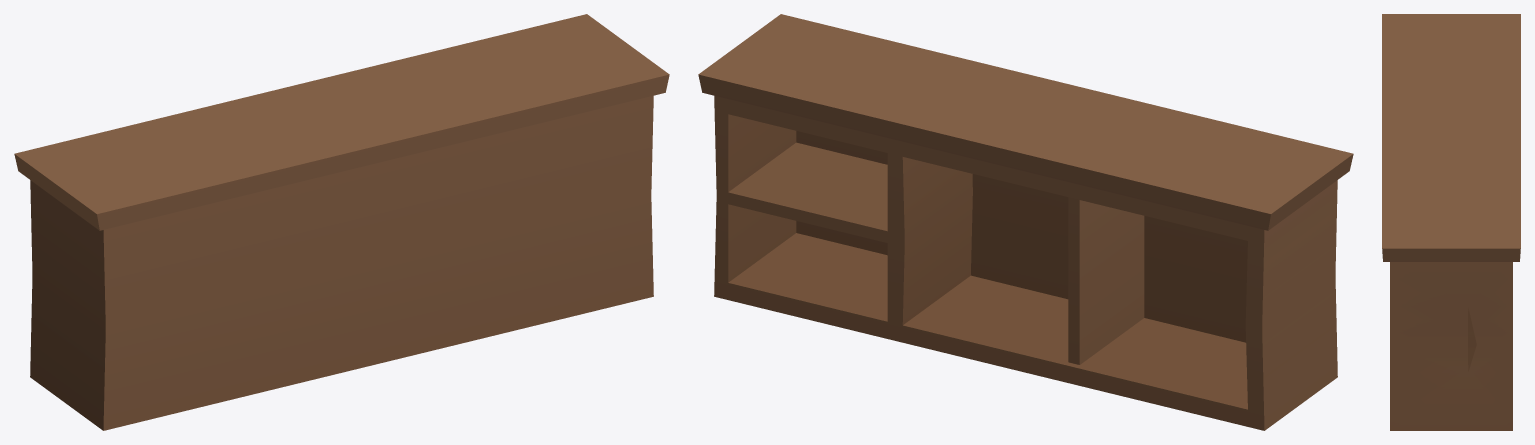
Rendered from ShelfUnit2.fbx.
3 renders of one model, left to right at view 1: azimuth 30°, elevation 25°; view 2: azimuth 150°, elevation 25°; view 3: azimuth 270°, elevation 25°, orthographic. The views are drawn at different scales.
Parts seen in each view (by area): view 1: ShelfUnit2; view 2: ShelfUnit2; view 3: ShelfUnit2.
Boxes of the visible parts, x1,y1,x2,y2 form: ShelfUnit2: [14, 14, 669, 430]; ShelfUnit2: [698, 14, 1353, 430]; ShelfUnit2: [1382, 14, 1520, 430].
Bounding box in the file's own units: 126 × 46.94 × 31.56.
